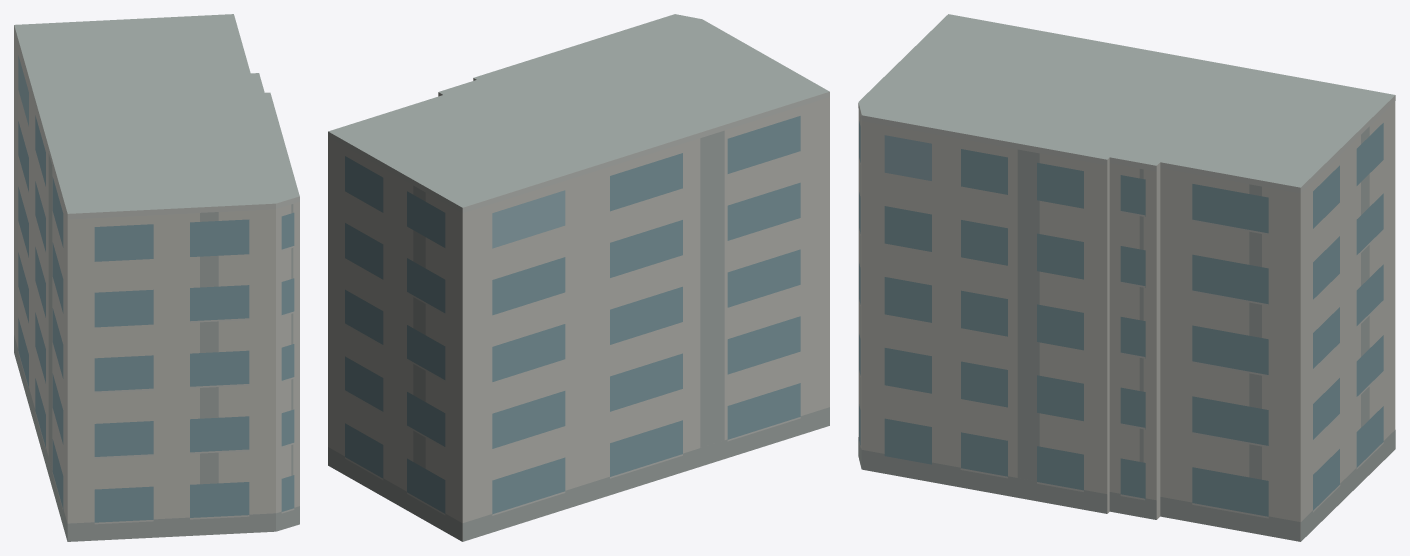
Rendered from survey-upis-32780267.glb.
3 renders of one model, left to right at view 1: azimuth 30°, elevation 25°; view 2: azimuth 150°, elevation 25°; view 3: azimuth 270°, elevation 25°, orthographic. The views are drawn at different scales.
Parts seen in each view (by area): view 1: survey-upis-32780267.tmp; view 2: survey-upis-32780267.tmp; view 3: survey-upis-32780267.tmp.
Part boxes in pixels (left/top/right/bottom): survey-upis-32780267.tmp: left=14, top=14, right=299, bottom=541; survey-upis-32780267.tmp: left=328, top=14, right=829, bottom=541; survey-upis-32780267.tmp: left=858, top=14, right=1395, bottom=541.
Bounding box in the file's own units: 15.25 × 14.5 × 19.93.
